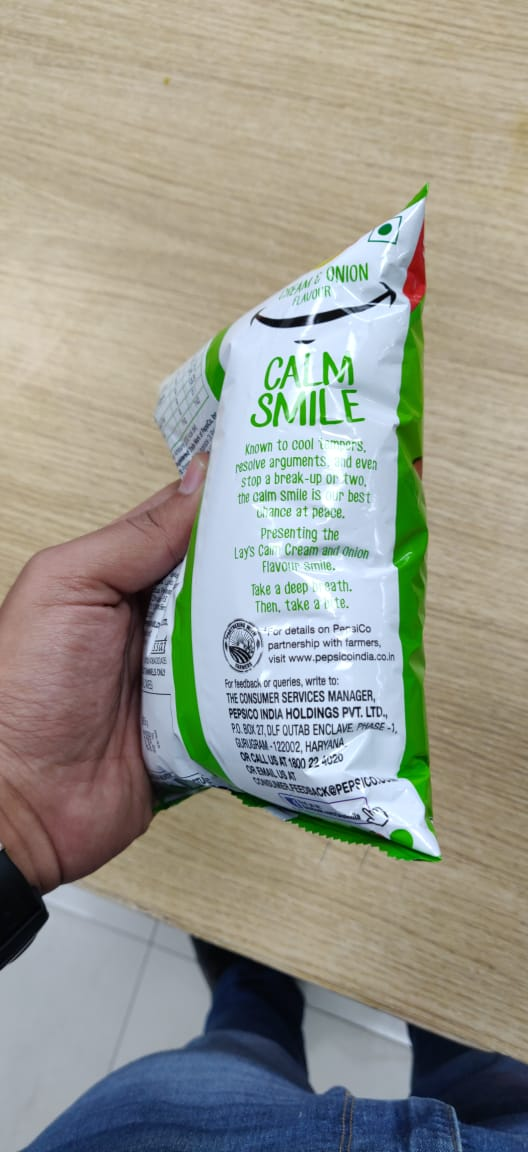lays chips: (117, 184, 494, 939)
